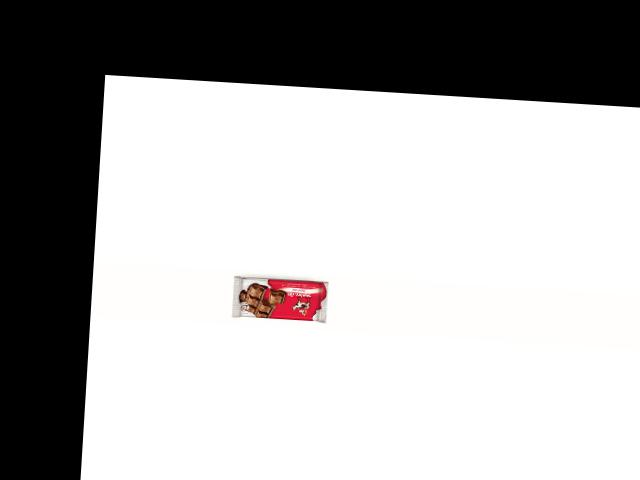chocolate: (229, 268, 331, 326)
